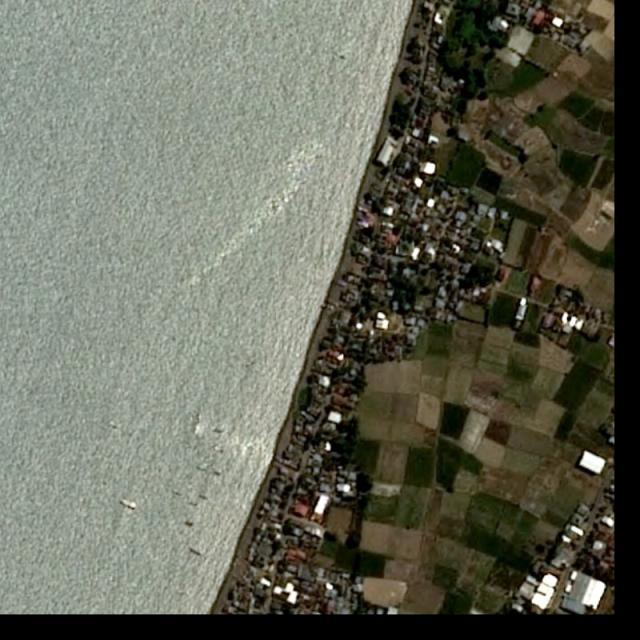ship: (120, 497, 139, 512), (189, 547, 203, 558), (195, 465, 207, 474), (187, 499, 200, 507), (214, 426, 225, 435), (246, 361, 258, 369), (199, 494, 210, 502), (214, 446, 226, 453), (195, 411, 202, 423), (109, 423, 119, 431), (174, 491, 185, 498), (212, 470, 222, 477), (185, 521, 195, 527)
